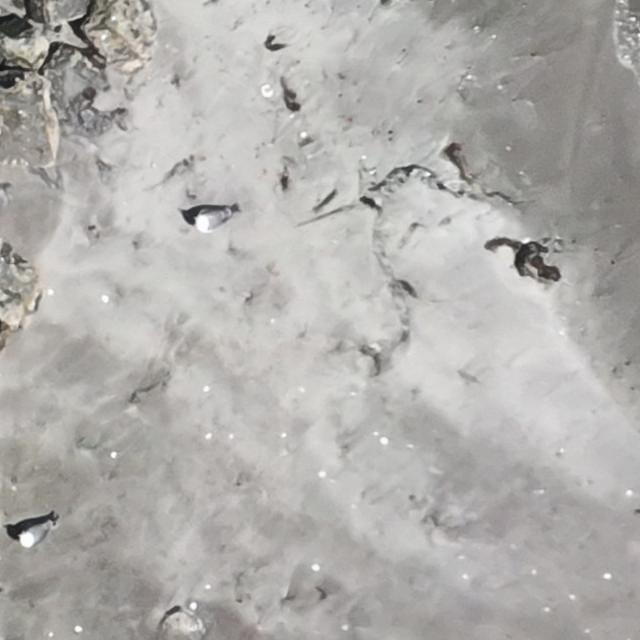umineko: (20, 521, 49, 545), (196, 212, 226, 230)
